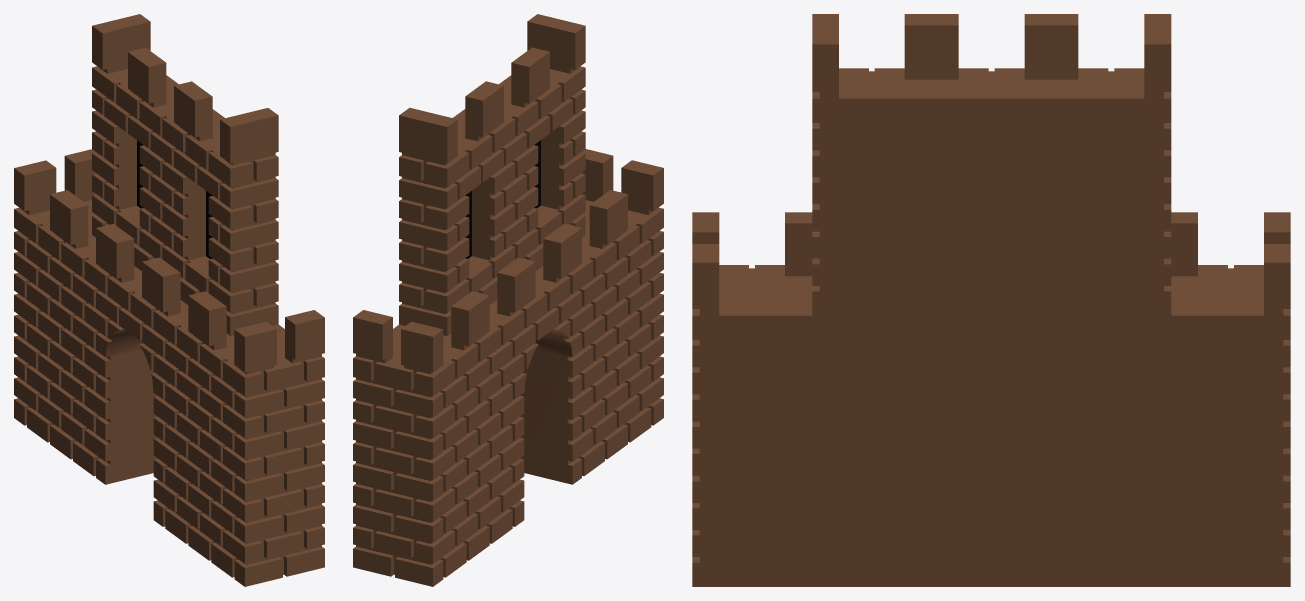
File: castle.fbx
3 renders of one model, left to right at view 1: azimuth 30°, elevation 25°; view 2: azimuth 150°, elevation 25°; view 3: azimuth 270°, elevation 25°, orthographic. The views are drawn at different scales.
Visible parts, largest first — view 1: castle; view 2: castle; view 3: castle.
Part boxes in pixels (x1=…): castle: x1=14, y1=14, x2=324, y2=586; castle: x1=353, y1=14, x2=663, y2=586; castle: x1=692, y1=14, x2=1290, y2=586.
Size of the model in its own units: 1.63 by 8.13 by 8.12.
